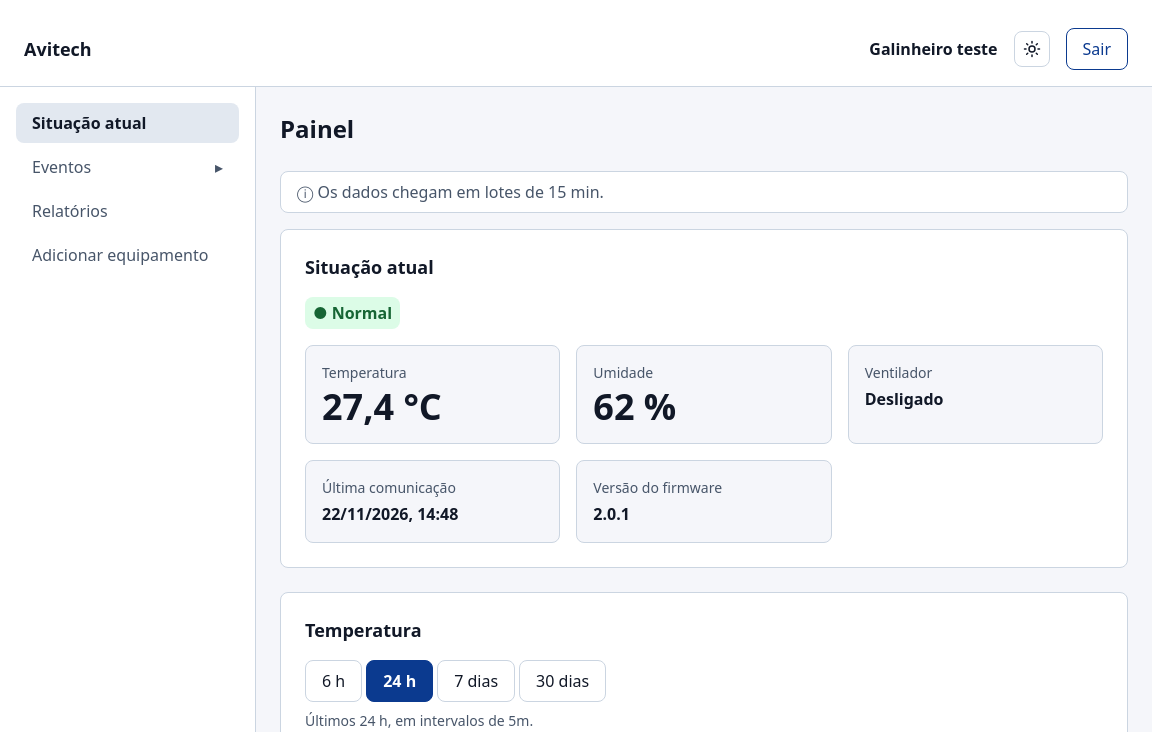
it: rotas › o botão Sair encerra a sessão e vai para o login
The width and height of the screenshot is (1164, 732).
Click the button "Sair" at (1097, 49), box [1066,28,1128,70]
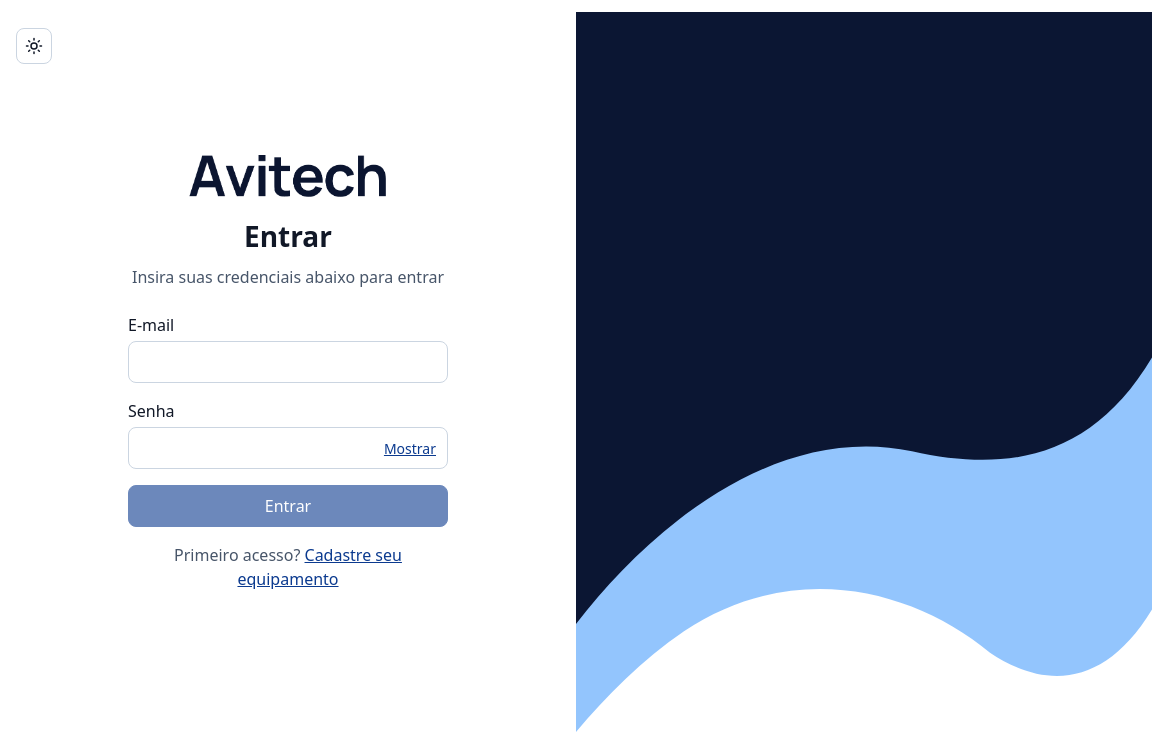
Check: the heading "Entrar" is shown, box [244,215,332,257]
